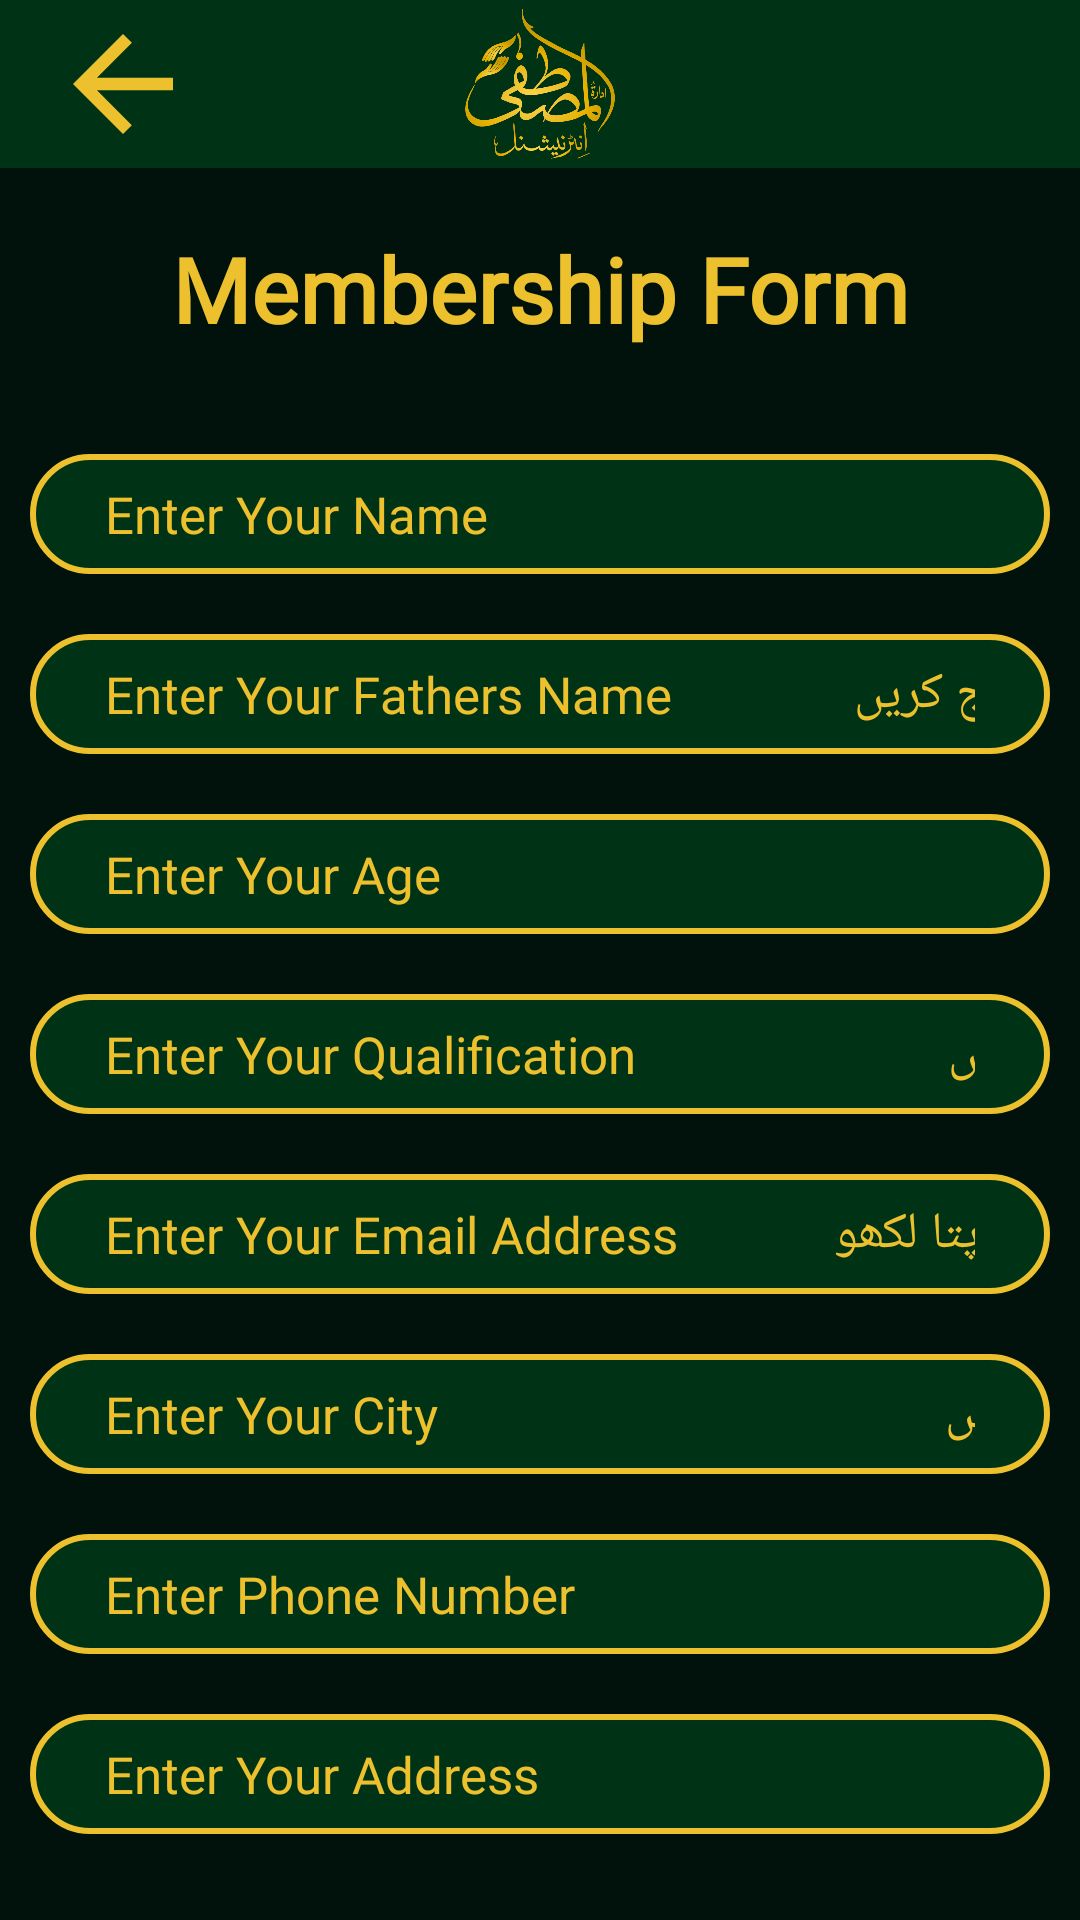

Locate icon controls on the screen. Image size 1080*1920, boxes as bbox=(x1, y1, x2, y2).
back: bbox=(73, 34, 173, 134)
